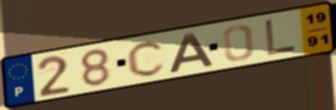0: (222, 23, 256, 62)
2: (36, 53, 73, 98)
8: (77, 47, 113, 88)
A: (167, 31, 216, 75)
C: (125, 39, 168, 78)
L: (263, 18, 299, 57)
